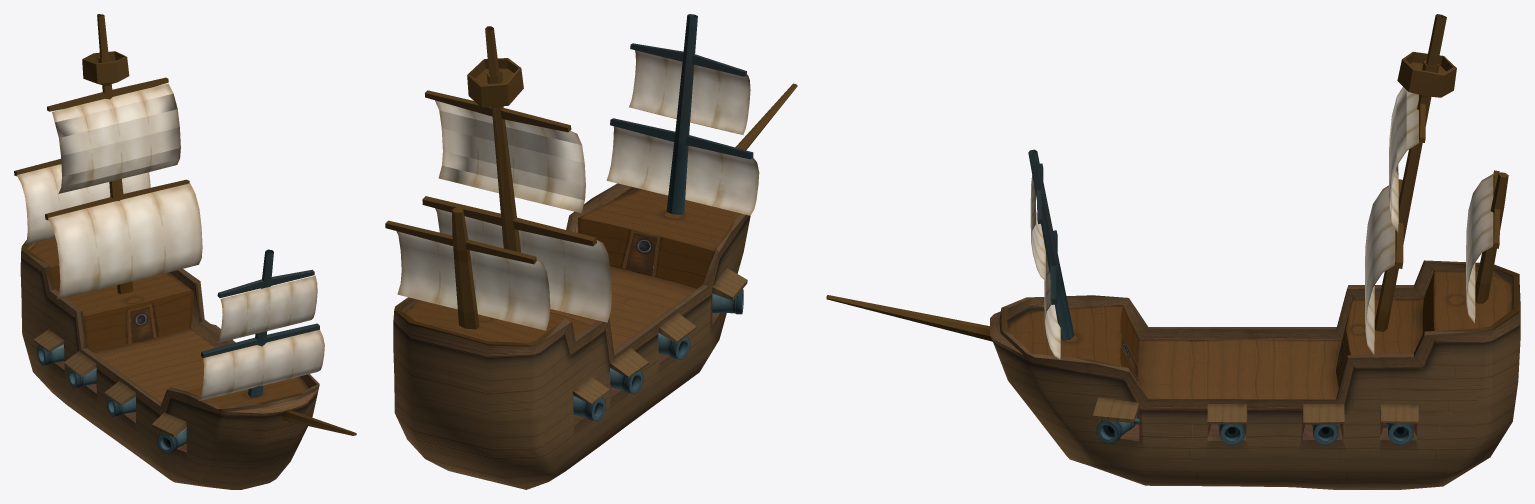
File: shipSmall.FBX
3 renders of one model, left to right at view 1: azimuth 30°, elevation 25°; view 2: azimuth 150°, elevation 25°; view 3: azimuth 270°, elevation 25°, orthographic. The views are drawn at different scales.
Visible parts, largest first — view 1: pirateShip; view 2: pirateShip; view 3: pirateShip.
Part boxes in pixels (left/top/right/bottom): pirateShip: left=14, top=14, right=356, bottom=489; pirateShip: left=385, top=14, right=797, bottom=489; pirateShip: left=826, top=14, right=1520, bottom=489.
Bounding box in the file's own units: 7536 × 17777 × 24537.
